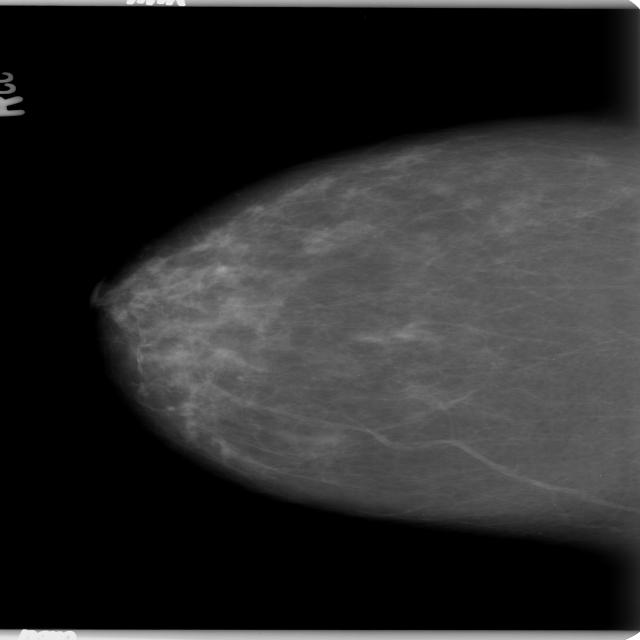normal: (86, 43, 640, 526)
